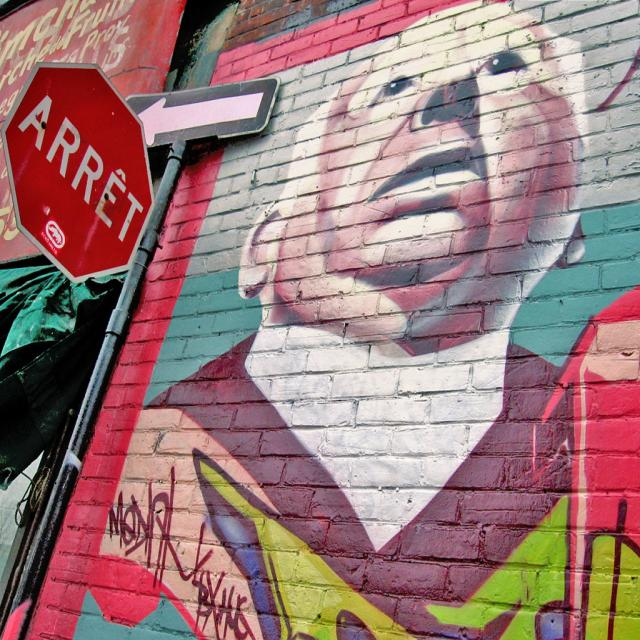Stop-sign: (0, 59, 155, 285)
